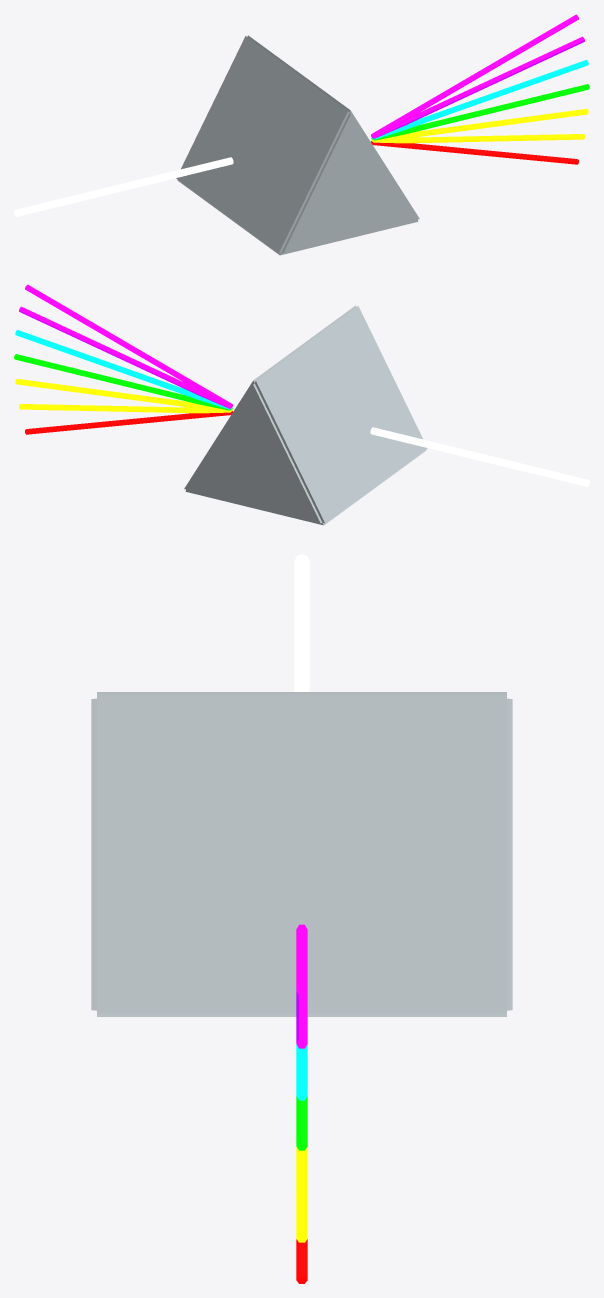
File: prism.glb
3 views of the same model, one above another, from view 1: azimuth 30°, elevation 25°; view 2: azimuth 150°, elevation 25°; view 3: azimuth 270°, elevation 25° (orthographic). The views are drawn at different scales.
Visible parts, largest first — view 1: Prism, BeamIn, Spec6, Spec5, Spec4, Spec3, Spec2, Spec1, Spec0; view 2: Prism, BeamIn, Spec6, Spec5, Spec4, Spec3, Spec2, Spec1, Spec0; view 3: Prism, BeamIn.
Part boxes in pixels (x1=…): Prism: x1=176, y1=35, x2=419, y2=255; BeamIn: x1=14, y1=157, x2=233, y2=216; Spec6: x1=371, y1=14, x2=578, y2=137; Spec5: x1=371, y1=36, x2=584, y2=138; Spec4: x1=371, y1=60, x2=588, y2=139; Spec3: x1=371, y1=84, x2=589, y2=140; Spec2: x1=371, y1=108, x2=588, y2=141; Spec1: x1=371, y1=134, x2=584, y2=143; Spec0: x1=371, y1=141, x2=578, y2=164; Prism: x1=184, y1=305, x2=427, y2=525; BeamIn: x1=370, y1=427, x2=589, y2=486; Spec6: x1=25, y1=284, x2=232, y2=407; Spec5: x1=19, y1=306, x2=232, y2=408; Spec4: x1=15, y1=330, x2=232, y2=409; Spec3: x1=14, y1=354, x2=232, y2=410; Spec2: x1=15, y1=378, x2=232, y2=411; Spec1: x1=19, y1=404, x2=232, y2=413; Spec0: x1=25, y1=411, x2=232, y2=434; Prism: x1=91, y1=692, x2=512, y2=1016; BeamIn: x1=294, y1=554, x2=309, y2=691.
Bounding box in the file's own units: 6.9 × 1.83 × 2.2.
